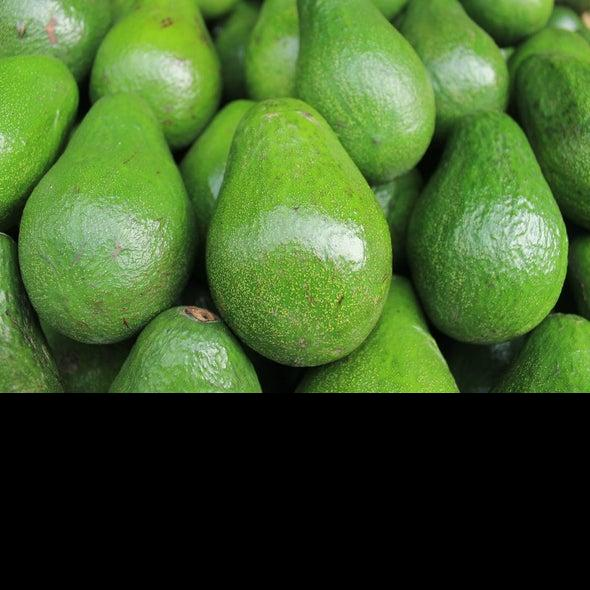unripe: (204, 98, 391, 367), (18, 92, 199, 345), (406, 111, 570, 345), (294, 1, 436, 184), (90, 1, 222, 151), (293, 274, 458, 393), (399, 1, 511, 137), (513, 50, 590, 233), (1, 53, 79, 229), (105, 306, 264, 392), (1, 234, 65, 393), (488, 313, 590, 393), (243, 1, 299, 101)
